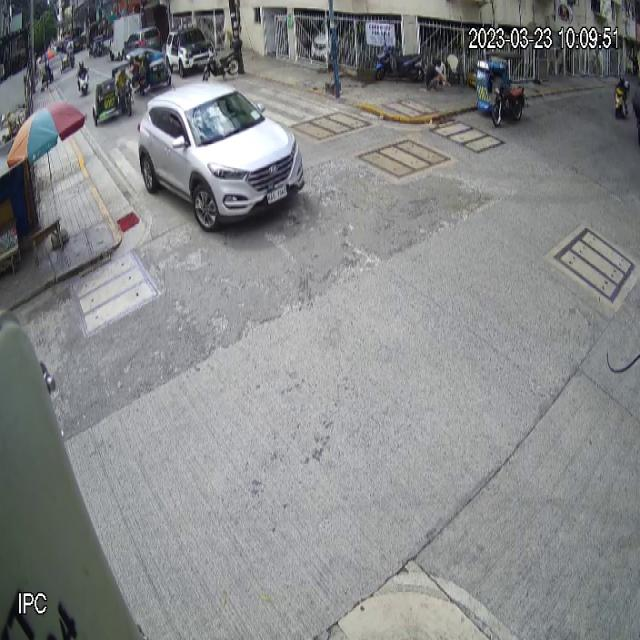Car: (137, 82, 306, 232)
Tricycle: (476, 51, 528, 126)
